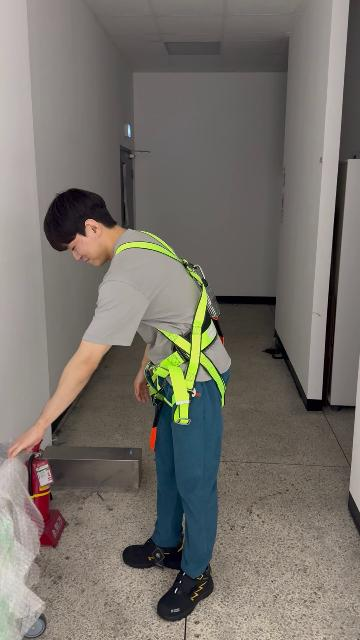helmet_not_worn: (42, 187, 118, 252)
shoe_worn: (157, 564, 214, 621), (122, 534, 183, 568)
vest_worn: (111, 233, 227, 413)
